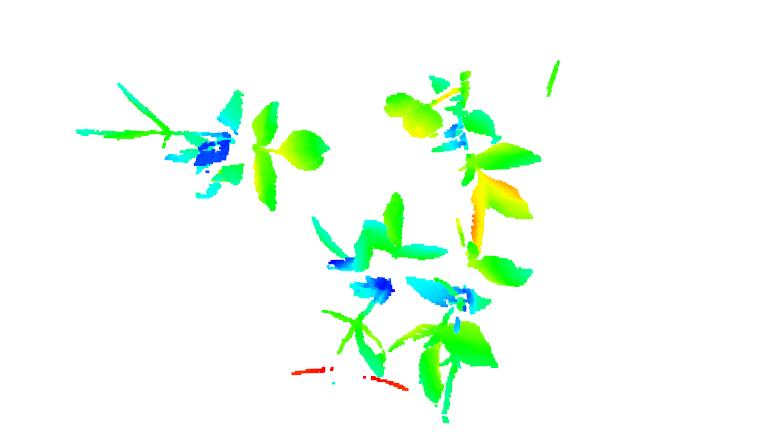mungbean: (71, 81, 335, 214), (374, 67, 556, 250), (312, 190, 451, 377), (405, 237, 537, 432)
